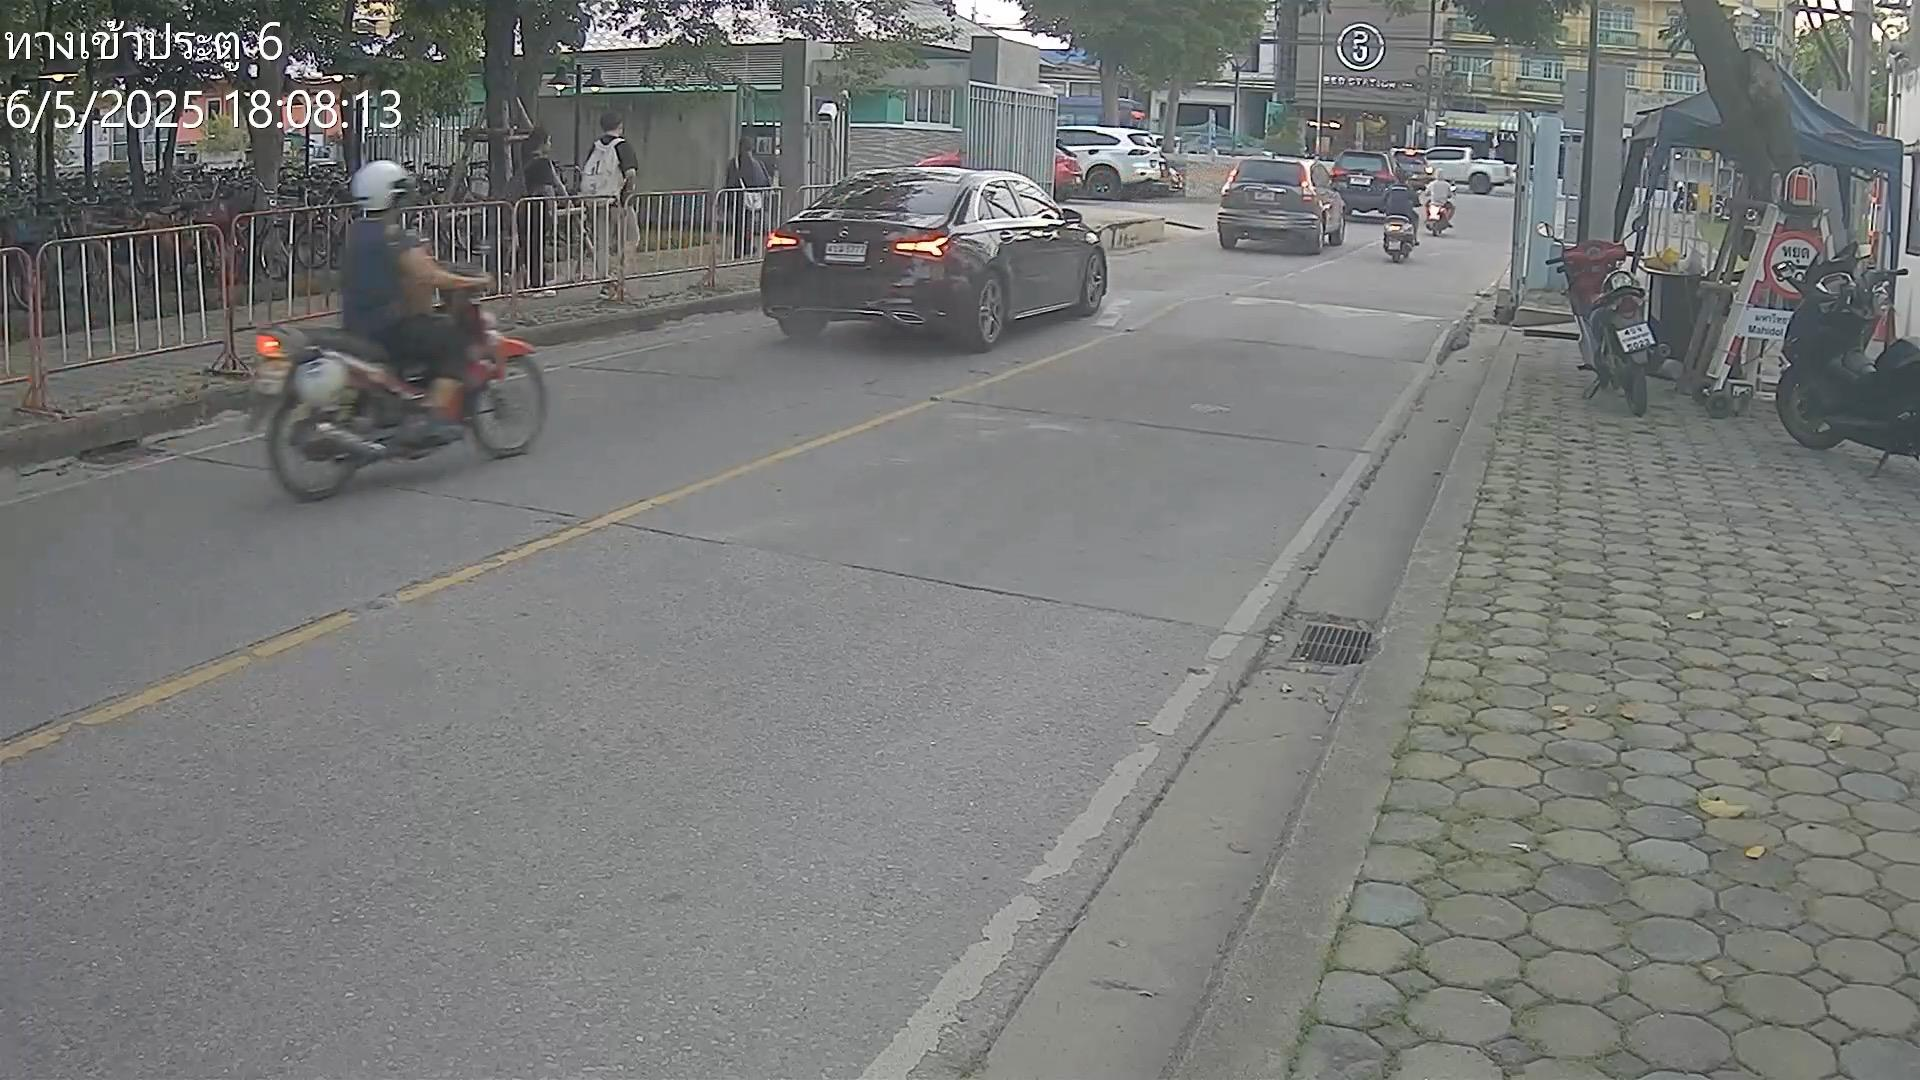With-Helmet: (349, 160, 418, 218)
